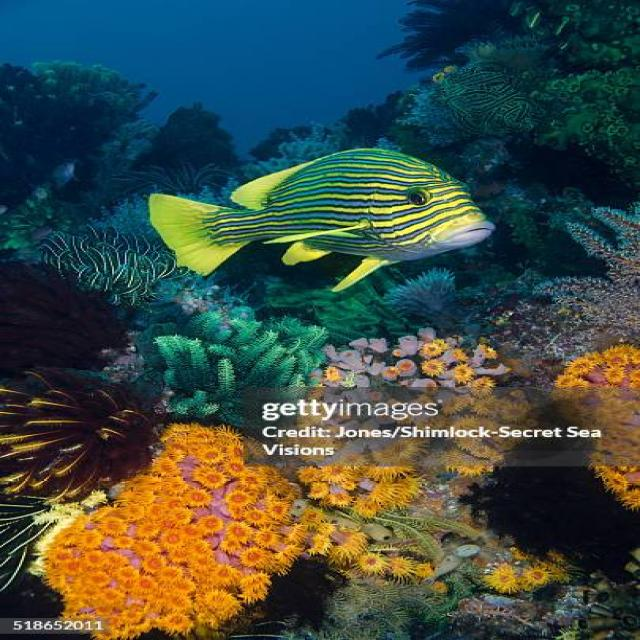RibbonedSweetlips: (148, 146, 499, 294)
